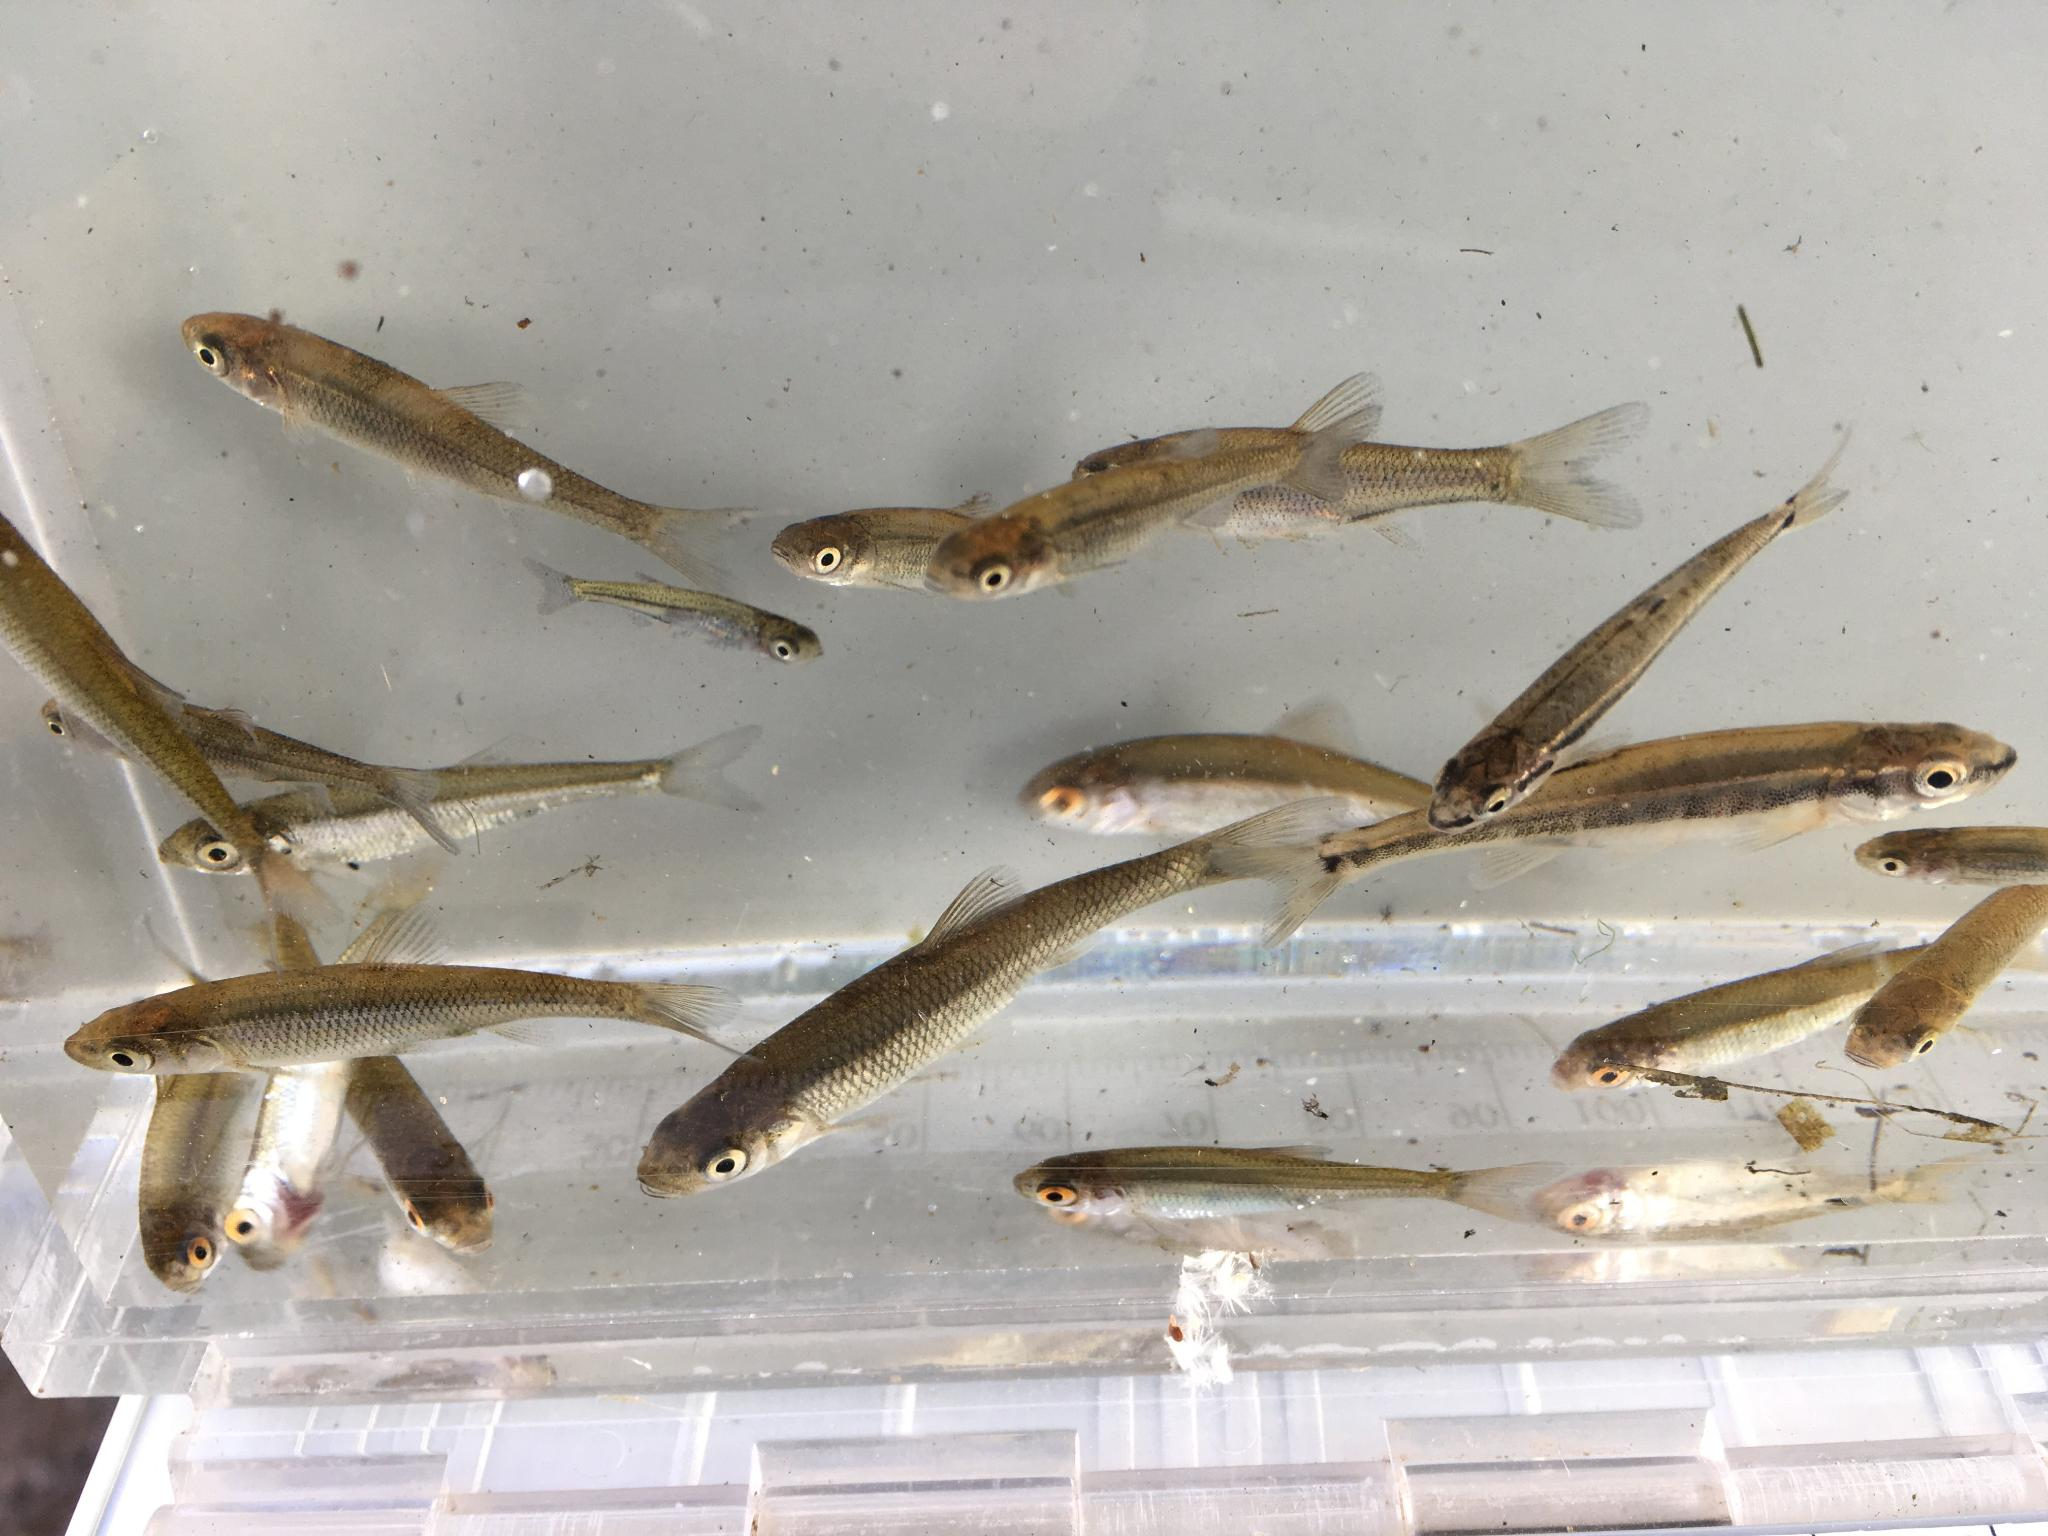fish: (605, 763, 1371, 1229), (1224, 676, 2037, 941), (168, 274, 763, 603), (1071, 319, 1671, 603), (45, 900, 822, 1113), (985, 1104, 1696, 1331), (884, 392, 1442, 641), (619, 1031, 879, 1284), (1817, 676, 2016, 858), (52, 965, 260, 1113), (177, 279, 331, 426)
